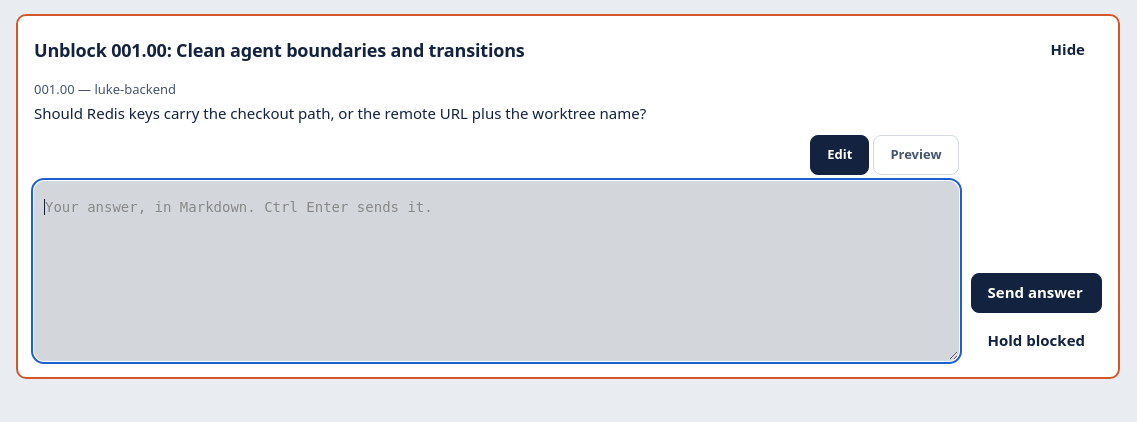
UnblockWidget › keeps a refused hold on screen with its reason
Click the button "Hold blocked": (1036, 341) [970,321,1102,361]
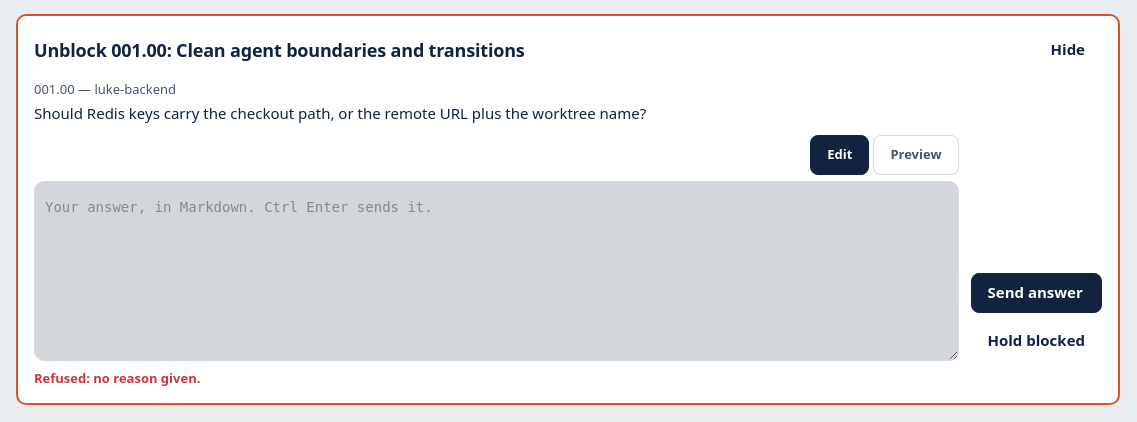
Now the text "Refused: no reason given." below "luke-backend" is shown, box [34,369,200,387]
